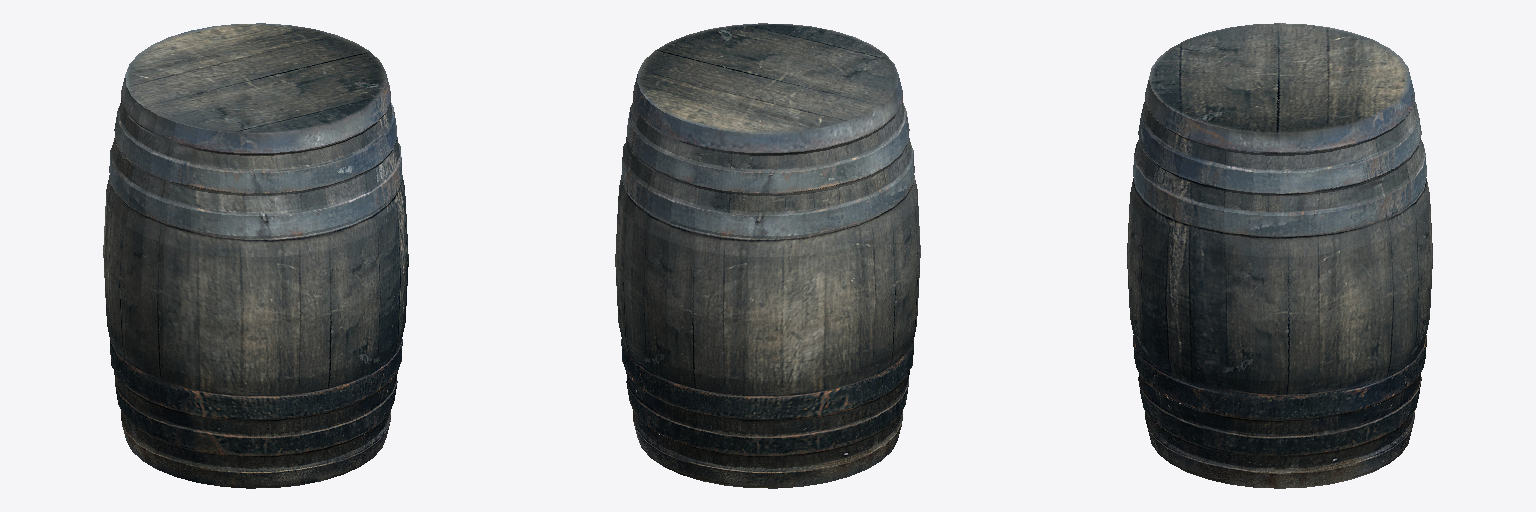
3 renders of one model, left to right at view 1: azimuth 30°, elevation 25°; view 2: azimuth 150°, elevation 25°; view 3: azimuth 270°, elevation 25°, orthographic.
Visible parts, largest first — view 1: Mesh_Mesh_Cylinder.001; view 2: Mesh_Mesh_Cylinder.001; view 3: Mesh_Mesh_Cylinder.001.
Boxes of the visible parts, x1,y1,x2,y2 form: Mesh_Mesh_Cylinder.001: [103, 23, 408, 488]; Mesh_Mesh_Cylinder.001: [615, 23, 920, 488]; Mesh_Mesh_Cylinder.001: [1127, 23, 1432, 488].
Bounding box in the file's own units: 9.44 × 12.06 × 9.44.
1 materials, 1 textured.